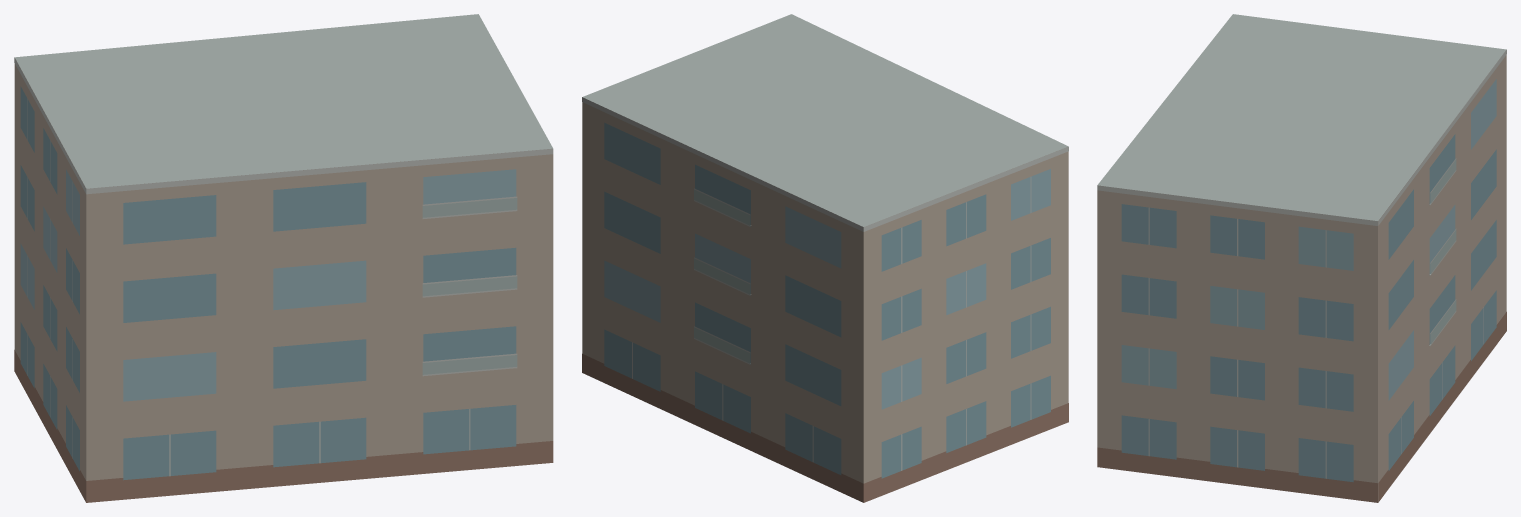
File: survey-upis-32839193.glb
3 renders of one model, left to right at view 1: azimuth 30°, elevation 25°; view 2: azimuth 150°, elevation 25°; view 3: azimuth 270°, elevation 25°, orthographic. The views are drawn at different scales.
Parts seen in each view (by area): view 1: survey-upis-32839193.tmp; view 2: survey-upis-32839193.tmp; view 3: survey-upis-32839193.tmp.
Part boxes in pixels (left/top/right/bottom): survey-upis-32839193.tmp: left=14, top=14, right=553, bottom=502; survey-upis-32839193.tmp: left=582, top=14, right=1068, bottom=502; survey-upis-32839193.tmp: left=1097, top=14, right=1506, bottom=502.
Bounding box in the file's own units: 21.77 × 13.8 × 18.19.
